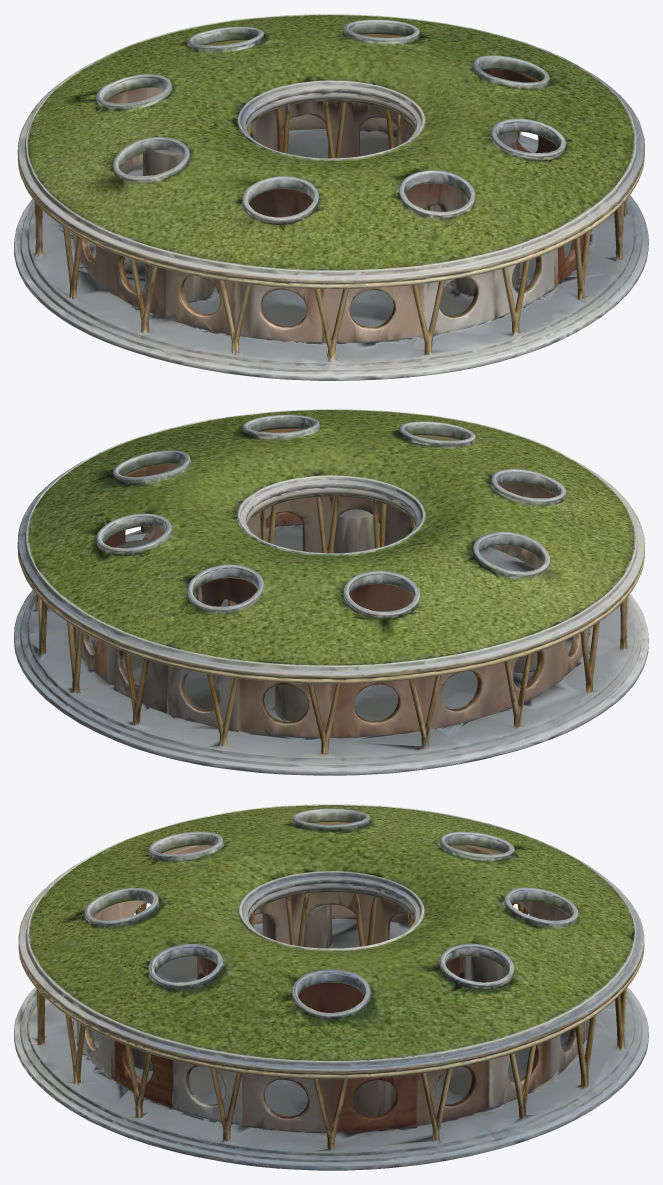
File: kbuilding.glb
The picture shows the model from 3 angles, top to bottom: view 1: azimuth 30°, elevation 25°; view 2: azimuth 150°, elevation 25°; view 3: azimuth 270°, elevation 25°; orthographic projection.
Visible parts, largest first — view 1: tripo_node_f13e9307-239a-4561-ac7a-9e01c4cd68d4; view 2: tripo_node_f13e9307-239a-4561-ac7a-9e01c4cd68d4; view 3: tripo_node_f13e9307-239a-4561-ac7a-9e01c4cd68d4.
Part boxes in pixels (left/top/right/bottom): tripo_node_f13e9307-239a-4561-ac7a-9e01c4cd68d4: left=14, top=14, right=648, bottom=380; tripo_node_f13e9307-239a-4561-ac7a-9e01c4cd68d4: left=14, top=409, right=648, bottom=775; tripo_node_f13e9307-239a-4561-ac7a-9e01c4cd68d4: left=14, top=804, right=648, bottom=1170.
Size of the model in its own units: 0.9797 by 0.2374 by 0.9798.
1 material, 1 textured.
